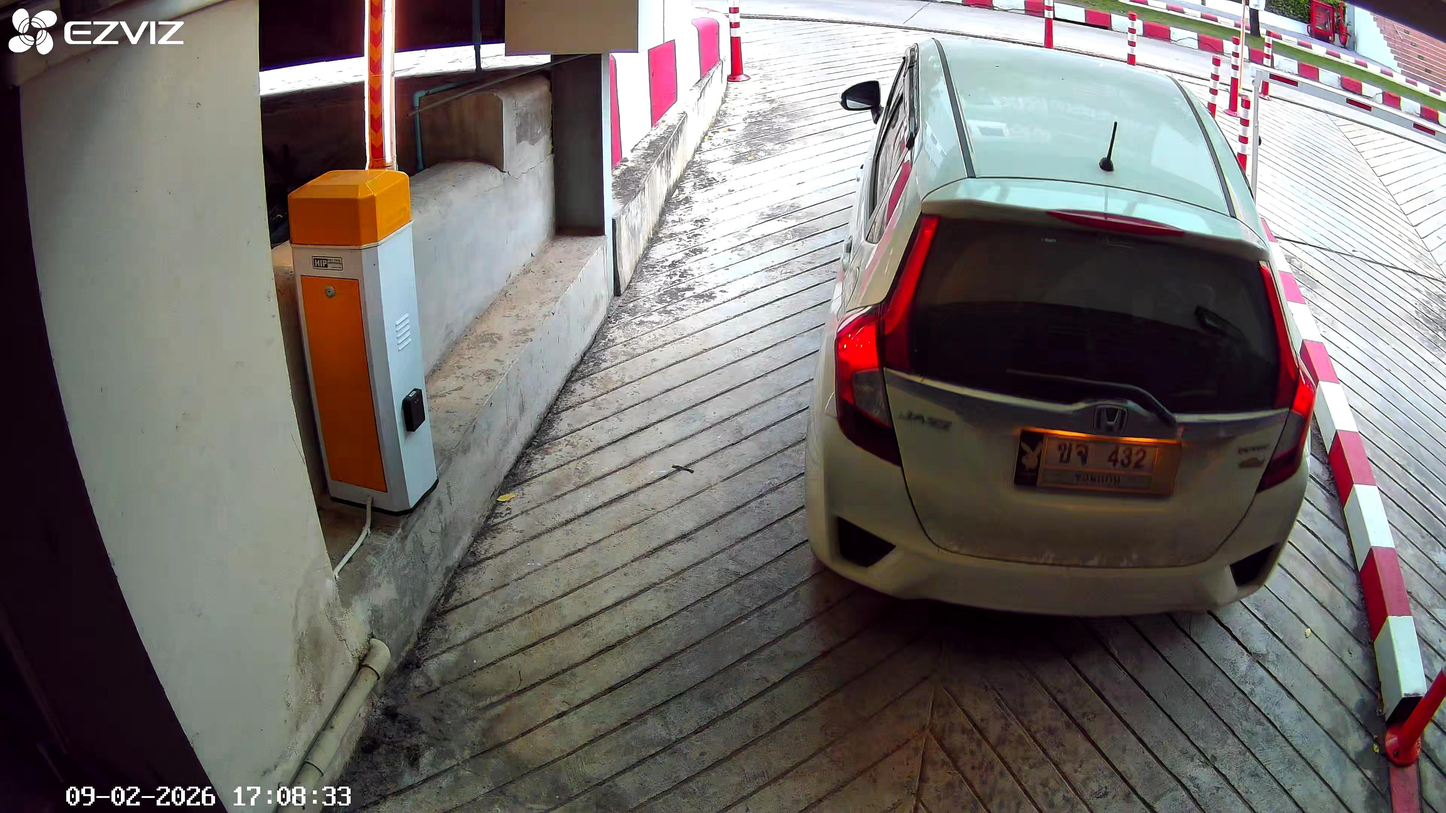car: (813, 28, 1314, 626)
license-plate: (1023, 425, 1182, 496)
